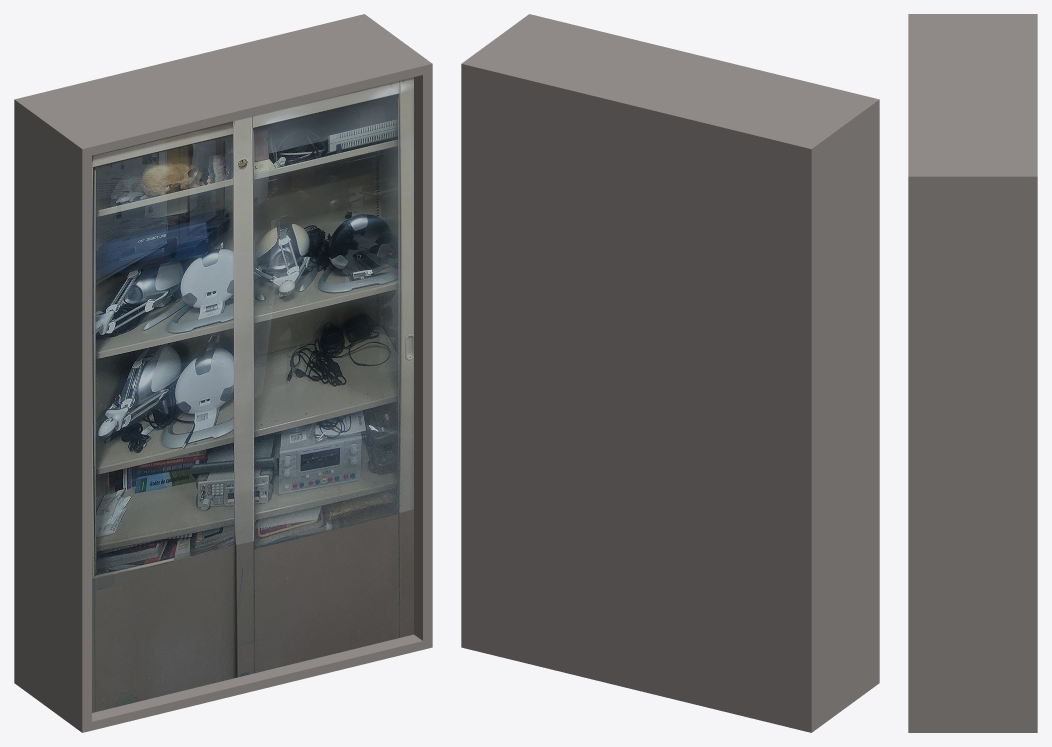
File: Shelf1.fbx
3 views of the same model, side by side, from view 1: azimuth 30°, elevation 25°; view 2: azimuth 150°, elevation 25°; view 3: azimuth 270°, elevation 25° (orthographic). The views are drawn at different scales.
Parts seen in each view (by area): view 1: Shelf1Geom; view 2: Shelf1Geom; view 3: Shelf1Geom.
Boxes of the visible parts, x1=… form: Shelf1Geom: x1=14, y1=14, x2=432, y2=732; Shelf1Geom: x1=461, y1=14, x2=879, y2=732; Shelf1Geom: x1=908, y1=14, x2=1037, y2=732.
Size of the model in its own units: 1.13 by 1.8 by 0.38.
Materials: 2 (1 with a texture image).
